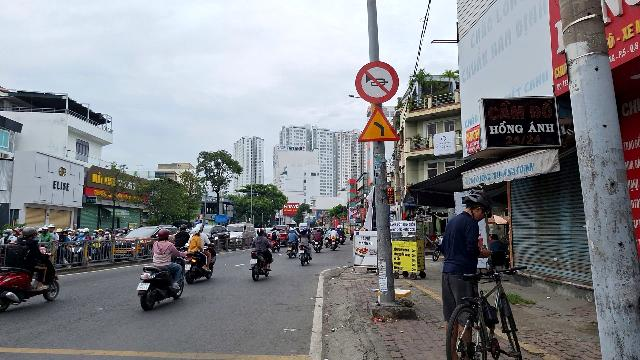cam-bop-coi: (355, 60, 399, 104)
cho-ngoat-nguy-hiem-ben-trai: (358, 105, 400, 142)
